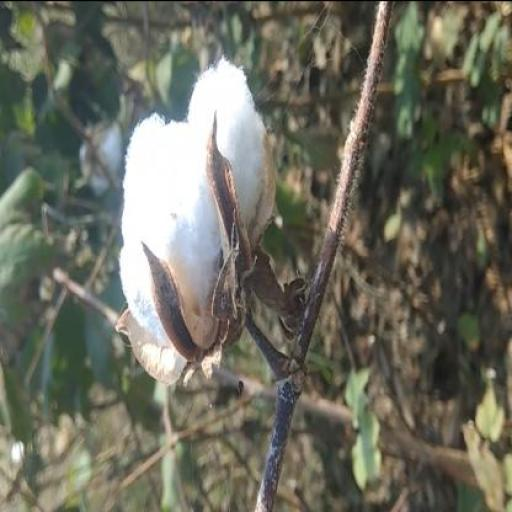cotton_ready: (101, 46, 331, 348)
